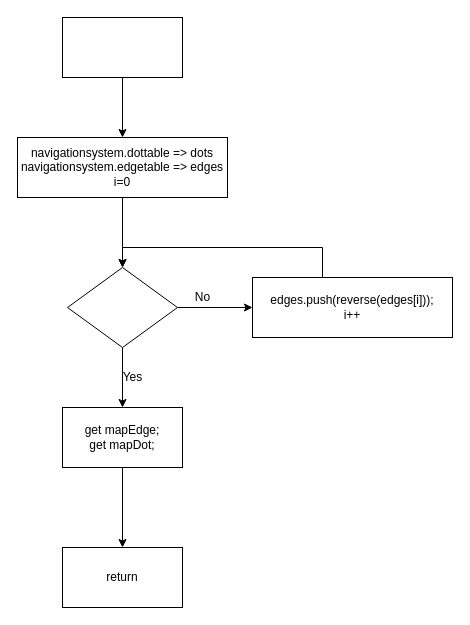
Some shapes in this 470 by 625 pixel diagram are drawn without their labels. Here are the shapes that lost their labels. From the top down, the box of each, then its label:
(62, 16, 182, 78): Dijkstra_initial()
(66, 266, 178, 348): i < edgeNumber?
